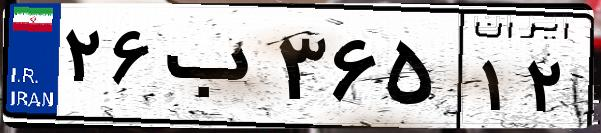1: (475, 38, 525, 113)
2: (57, 26, 110, 100), (525, 38, 570, 115)
3: (270, 28, 330, 110)
5: (385, 28, 445, 110)
6: (330, 28, 385, 110), (110, 28, 158, 98)
ب: (158, 20, 270, 120)
